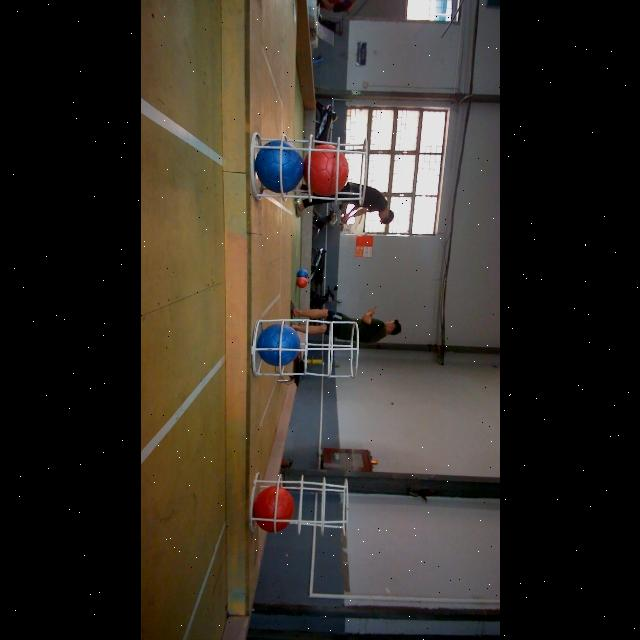B: (254, 140, 304, 193), (256, 325, 300, 367)
R: (304, 144, 350, 196), (252, 486, 294, 532)
